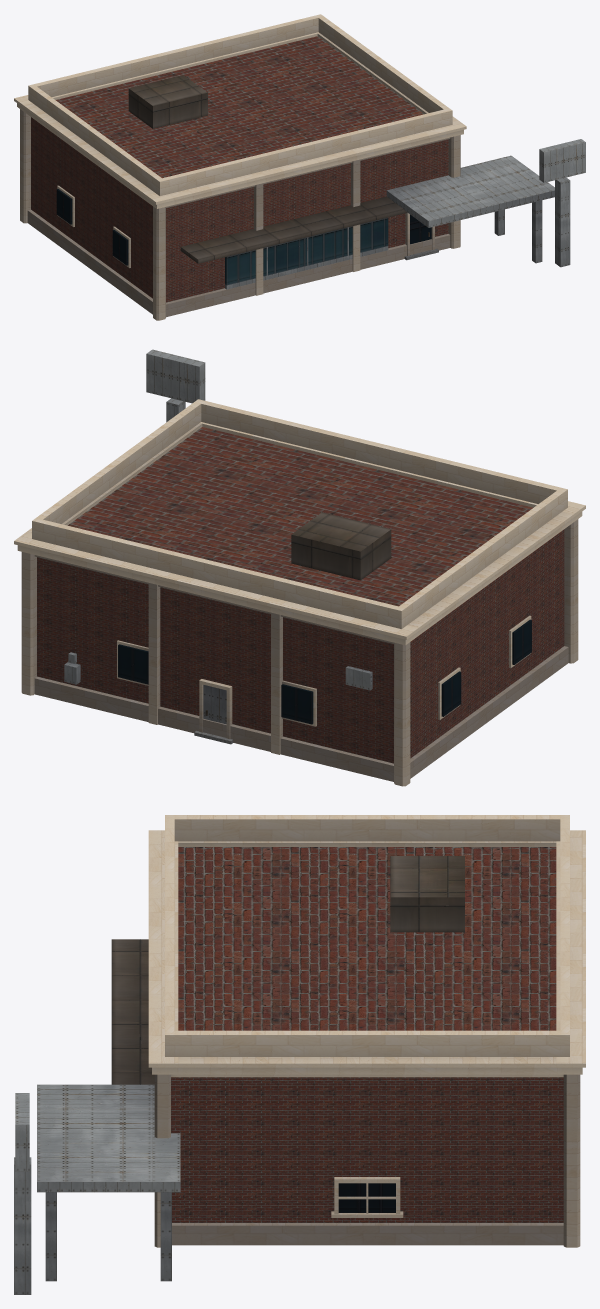
The model's file is neighborhood-pharmacy_lod0.gltf.
The picture shows the model from 3 angles, top to bottom: view 1: azimuth 30°, elevation 25°; view 2: azimuth 150°, elevation 25°; view 3: azimuth 270°, elevation 25°; orthographic projection. The views are drawn at different scales.
Visible parts, largest first — view 1: neighborhood-pharmacy_main, neighborhood-pharmacy__v4_stone_detail, neighborhood-pharmacy__v4_metal_detail, neighborhood-pharmacy__drive_canopy, neighborhood-pharmacy_fen_07-glass-curtain-blue_1, neighborhood-pharmacy__pylon_cabinet, neighborhood-pharmacy__pylon_post, neighborhood-pharmacy_fen_07-glass-curtain-blue_3_t, neighborhood-pharmacy_fen_14-steel-panel_0, neighborhood-pharmacy__drive_post_a, neighborhood-pharmacy_fen_04-limestone_2; view 2: neighborhood-pharmacy_main, neighborhood-pharmacy__v4_stone_detail, neighborhood-pharmacy__v4_metal_detail, neighborhood-pharmacy_fen_07-glass-curtain-blue_3_t, neighborhood-pharmacy__pylon_cabinet, neighborhood-pharmacy_fen_04-limestone_2, neighborhood-pharmacy_fen_14-steel-panel_0; view 3: neighborhood-pharmacy_main, neighborhood-pharmacy__v4_stone_detail, neighborhood-pharmacy__drive_canopy, neighborhood-pharmacy__v4_metal_detail, neighborhood-pharmacy__pylon_post, neighborhood-pharmacy_fen_07-glass-curtain-blue_3_t, neighborhood-pharmacy_fen_04-limestone_2, neighborhood-pharmacy__pylon_cabinet, neighborhood-pharmacy__drive_post_a, neighborhood-pharmacy__drive_post_b.
Boxes of the visible parts, x1,y1,x2,y2 form: neighborhood-pharmacy_main: [31, 36, 448, 302]; neighborhood-pharmacy__v4_stone_detail: [14, 14, 466, 320]; neighborhood-pharmacy__v4_metal_detail: [128, 75, 407, 263]; neighborhood-pharmacy__drive_canopy: [386, 155, 554, 227]; neighborhood-pharmacy_fen_07-glass-curtain-blue_1: [225, 217, 388, 285]; neighborhood-pharmacy__pylon_cabinet: [539, 139, 585, 182]; neighborhood-pharmacy__pylon_post: [555, 177, 570, 267]; neighborhood-pharmacy_fen_07-glass-curtain-blue_3_t: [56, 189, 431, 265]; neighborhood-pharmacy_fen_14-steel-panel_0: [225, 227, 388, 289]; neighborhood-pharmacy__drive_post_a: [532, 200, 542, 263]; neighborhood-pharmacy_fen_04-limestone_2: [57, 185, 434, 267]; neighborhood-pharmacy_main: [37, 427, 564, 763]; neighborhood-pharmacy__v4_stone_detail: [14, 399, 585, 786]; neighborhood-pharmacy__v4_metal_detail: [291, 512, 391, 580]; neighborhood-pharmacy_fen_07-glass-curtain-blue_3_t: [118, 619, 531, 724]; neighborhood-pharmacy__pylon_cabinet: [146, 349, 205, 403]; neighborhood-pharmacy_fen_04-limestone_2: [117, 615, 531, 739]; neighborhood-pharmacy_fen_14-steel-panel_0: [64, 652, 372, 724]; neighborhood-pharmacy_main: [171, 847, 563, 1222]; neighborhood-pharmacy__v4_stone_detail: [148, 815, 585, 1247]; neighborhood-pharmacy__drive_canopy: [37, 1084, 180, 1192]; neighborhood-pharmacy__v4_metal_detail: [111, 856, 464, 1084]; neighborhood-pharmacy__pylon_post: [14, 1157, 31, 1294]; neighborhood-pharmacy_fen_07-glass-curtain-blue_3_t: [338, 1183, 395, 1212]; neighborhood-pharmacy_fen_04-limestone_2: [331, 1177, 403, 1217]; neighborhood-pharmacy__pylon_cabinet: [15, 1093, 29, 1171]; neighborhood-pharmacy__drive_post_a: [45, 1192, 56, 1281]; neighborhood-pharmacy__drive_post_b: [160, 1192, 171, 1281].
Bounding box in the file's own units: 23.91 × 8.37 × 19.91.
